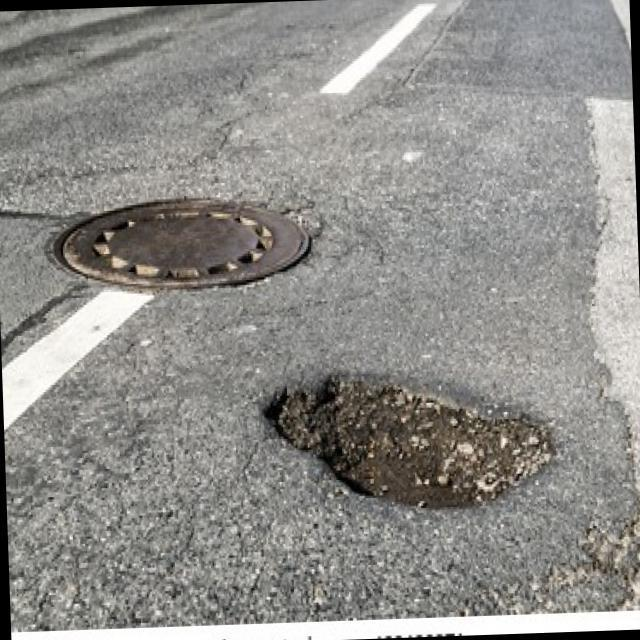Buraco: (257, 366, 568, 514)
